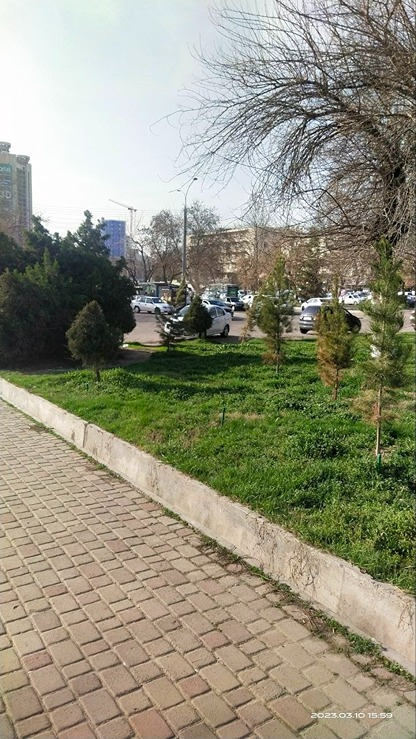car: (167, 299, 229, 348), (303, 304, 362, 331), (133, 292, 167, 312)
tree: (166, 0, 416, 258), (362, 258, 400, 460), (143, 208, 228, 287), (253, 260, 289, 365)
